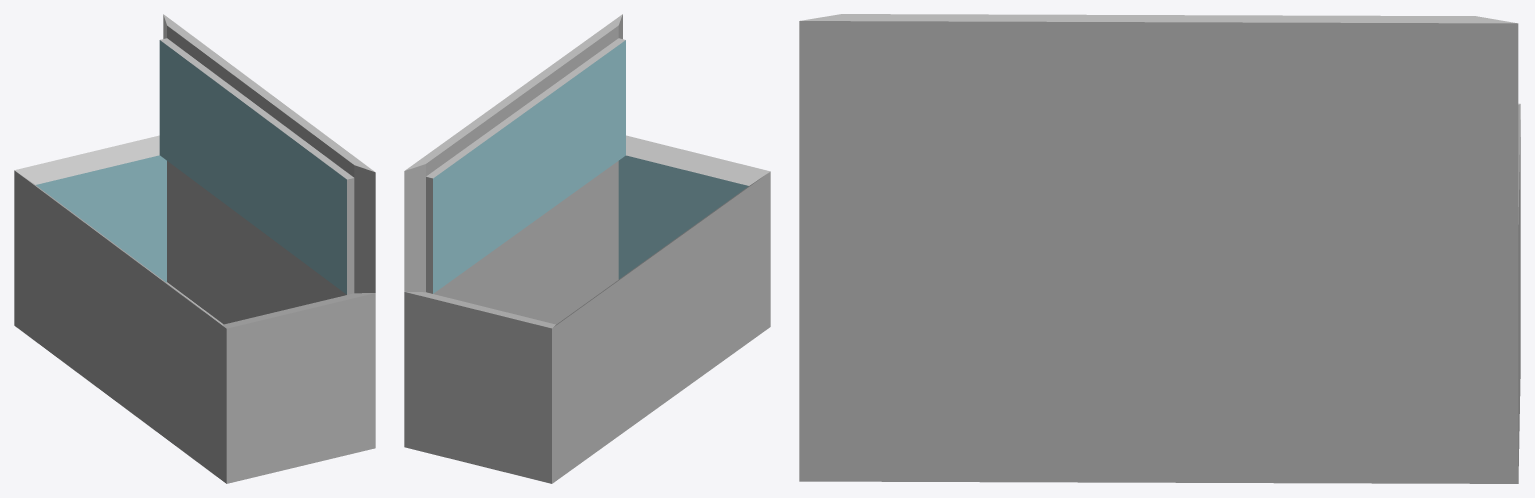
Rendered from fridge.glb.
3 views of the same model, side by side, from view 1: azimuth 30°, elevation 25°; view 2: azimuth 150°, elevation 25°; view 3: azimuth 270°, elevation 25° (orthographic). The views are drawn at different scales.
Visible parts, largest first — view 1: Cube.048; view 2: Cube.048; view 3: Cube.048.
Part boxes in pixels (box(x1,y1,x2,y2)): Cube.048: box(14, 14, 375, 483); Cube.048: box(404, 14, 770, 483); Cube.048: box(799, 14, 1520, 483).
Bounding box in the file's own units: 0.417 × 0.7261 × 1.03.
